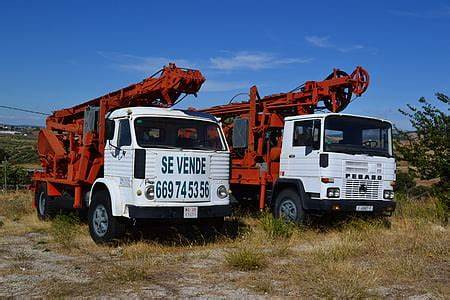truck: (185, 66, 398, 230), (35, 64, 230, 243)
